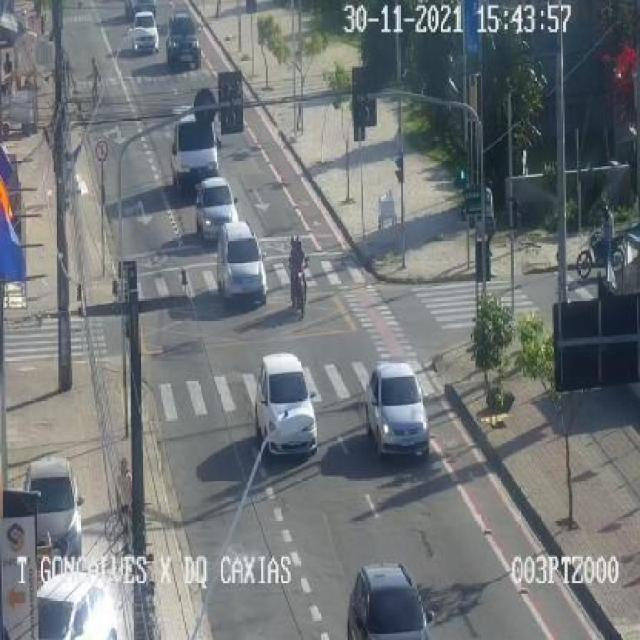Car: (252, 354, 314, 457), (346, 563, 430, 638), (22, 460, 82, 560), (365, 363, 429, 456), (36, 573, 123, 638), (215, 222, 267, 304), (193, 178, 239, 242), (166, 10, 201, 68), (130, 10, 160, 52), (125, 0, 157, 22)
